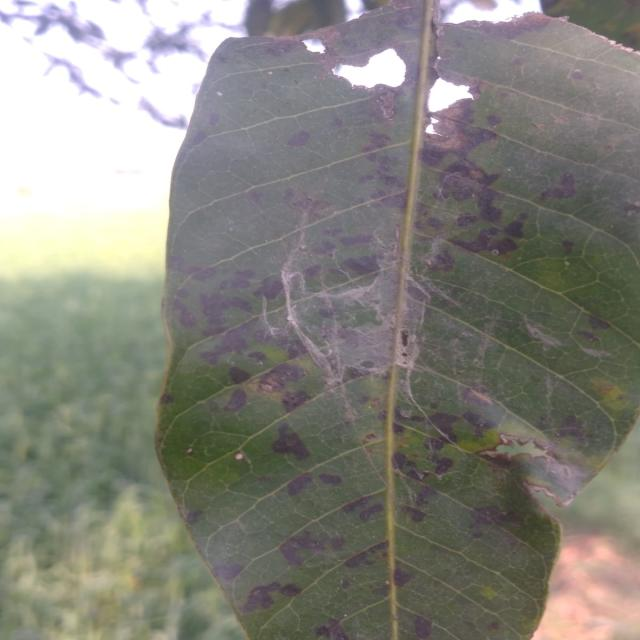Anthracnose: (291, 34, 481, 139), (470, 437, 560, 467)
black die: (192, 263, 335, 466), (439, 156, 527, 259), (239, 575, 314, 622), (293, 469, 350, 497), (288, 535, 348, 560)
